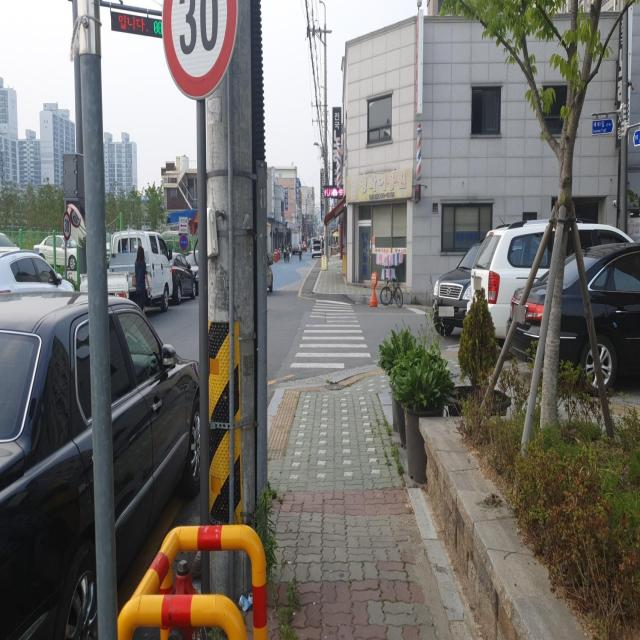횡단보도: (289, 298, 372, 370)
